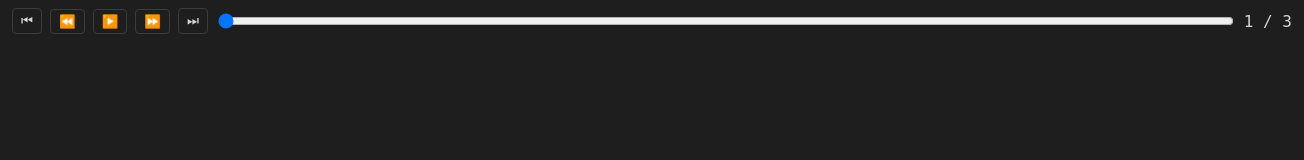
Test case: TransportControls › advances to the next step on click
Click the button "⏩" at (153, 21), box x1=135 y1=8 x2=170 y2=34
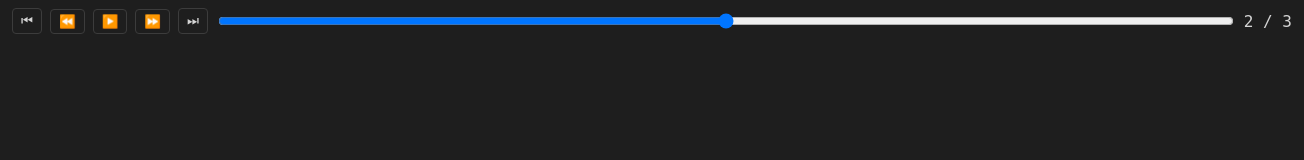
Result: the text "2 / 3" is shown at x1=1244 y1=12 x2=1292 y2=30
